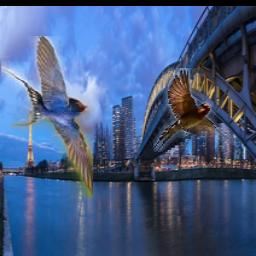Swallow: (1, 36, 93, 198), (155, 68, 238, 152)
